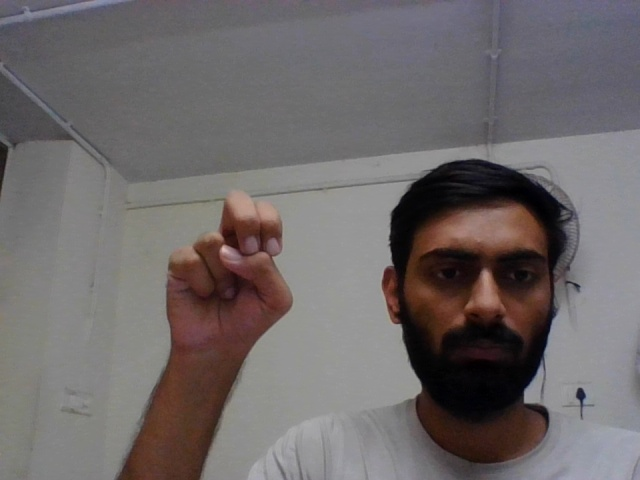N: (153, 176, 303, 388)
